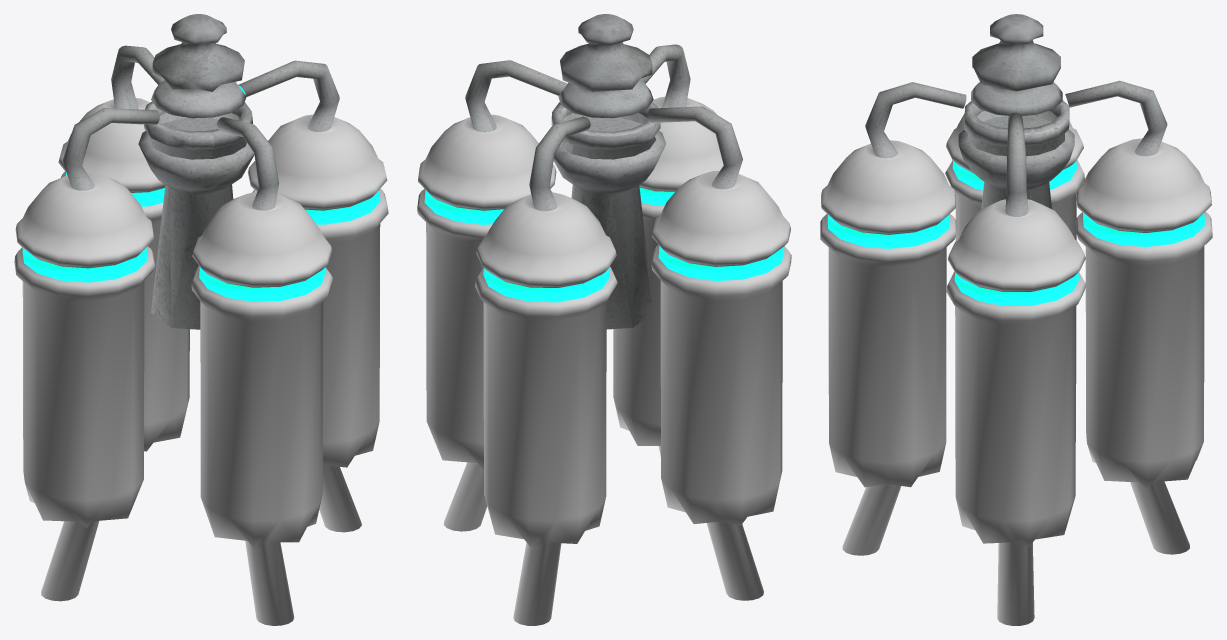
File: economyECONOMY.fbx
The picture shows the model from 3 angles, left to right: view 1: azimuth 30°, elevation 25°; view 2: azimuth 150°, elevation 25°; view 3: azimuth 270°, elevation 25°; orthographic projection.
Parts seen in each view (by area): view 1: Cylinder; view 2: Cylinder; view 3: Cylinder.
Boxes of the visible parts, x1=… form: Cylinder: x1=14, y1=14, x2=388, y2=625; Cylinder: x1=417, y1=14, x2=791, y2=625; Cylinder: x1=820, y1=14, x2=1212, y2=625.
Size of the model in its own units: 7.84 by 11.4 by 7.66.
